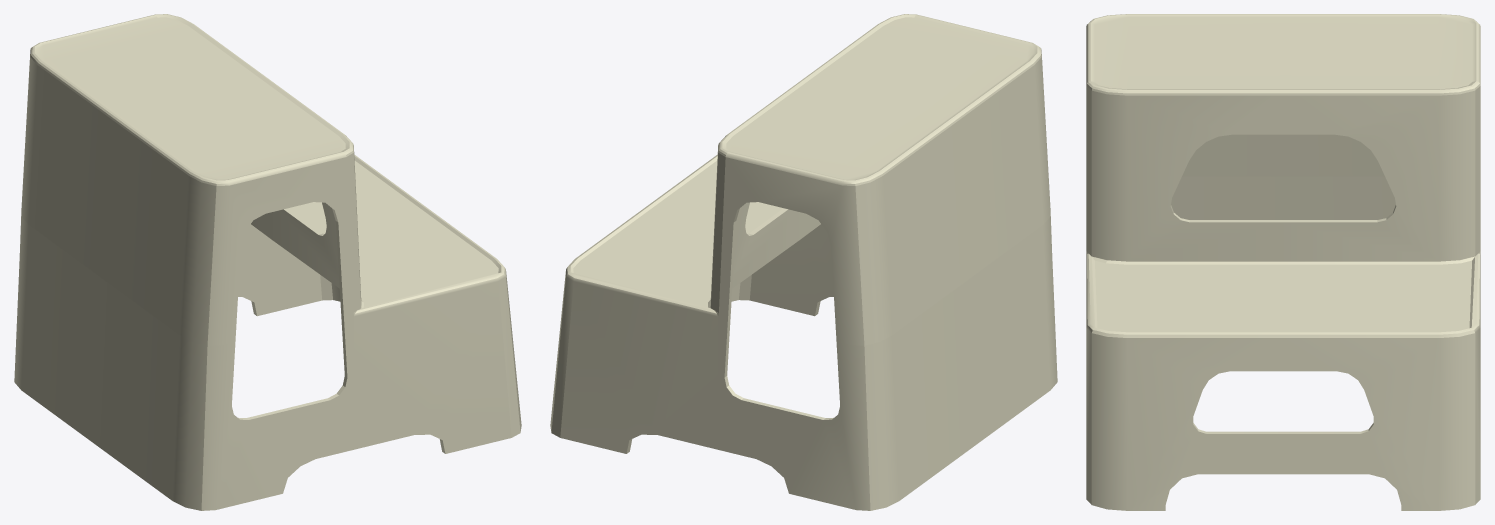
File: Radder.fbx
3 views of the same model, side by side, from view 1: azimuth 30°, elevation 25°; view 2: azimuth 150°, elevation 25°; view 3: azimuth 270°, elevation 25° (orthographic). The views are drawn at different scales.
Parts seen in each view (by area): view 1: polySurface3; view 2: polySurface3; view 3: polySurface3.
Boxes of the visible parts, x1,y1,x2,y2 form: polySurface3: (14, 14, 521, 510); polySurface3: (550, 14, 1057, 510); polySurface3: (1086, 14, 1480, 510).
Size of the model in its own units: 97.57 by 88.72 by 94.59.
